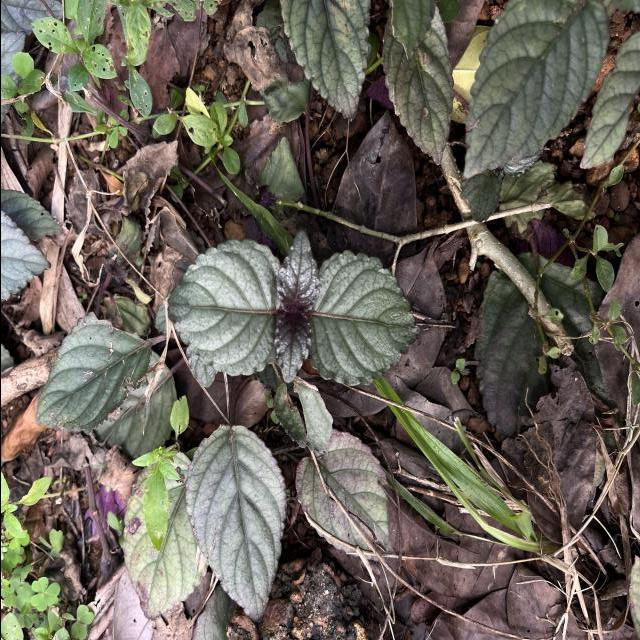Hemigraphis colorata: (459, 0, 614, 182), (182, 420, 287, 626), (163, 235, 280, 378), (306, 248, 421, 388), (32, 310, 152, 438), (378, 5, 456, 168), (276, 0, 372, 125), (274, 224, 320, 312), (270, 314, 313, 386)
